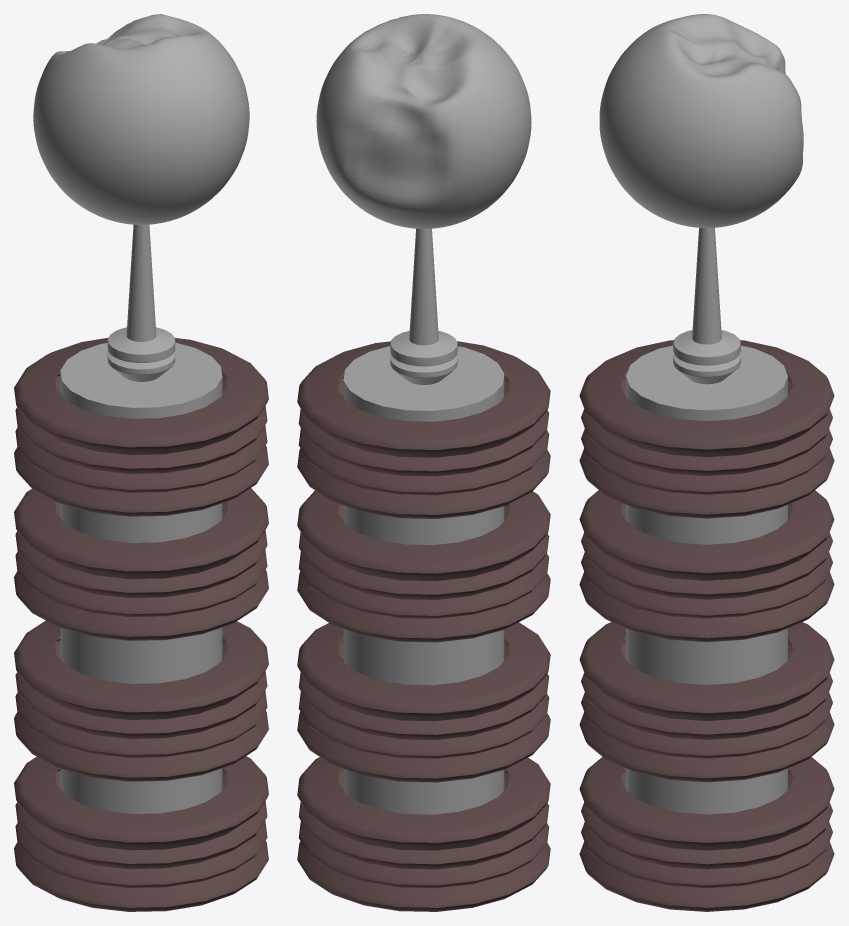
File: Tesla_coil.fbx
3 views of the same model, side by side, from view 1: azimuth 30°, elevation 25°; view 2: azimuth 150°, elevation 25°; view 3: azimuth 270°, elevation 25° (orthographic).
Visible parts, largest first — view 1: TEsla_coil; view 2: TEsla_coil; view 3: TEsla_coil.
Boxes of the visible parts, <box> form: TEsla_coil: <box>14,14,268,911</box>; TEsla_coil: <box>297,14,550,911</box>; TEsla_coil: <box>579,14,834,911</box>.
Bounding box in the file's own units: 0.2506 × 0.9114 × 0.2506.
